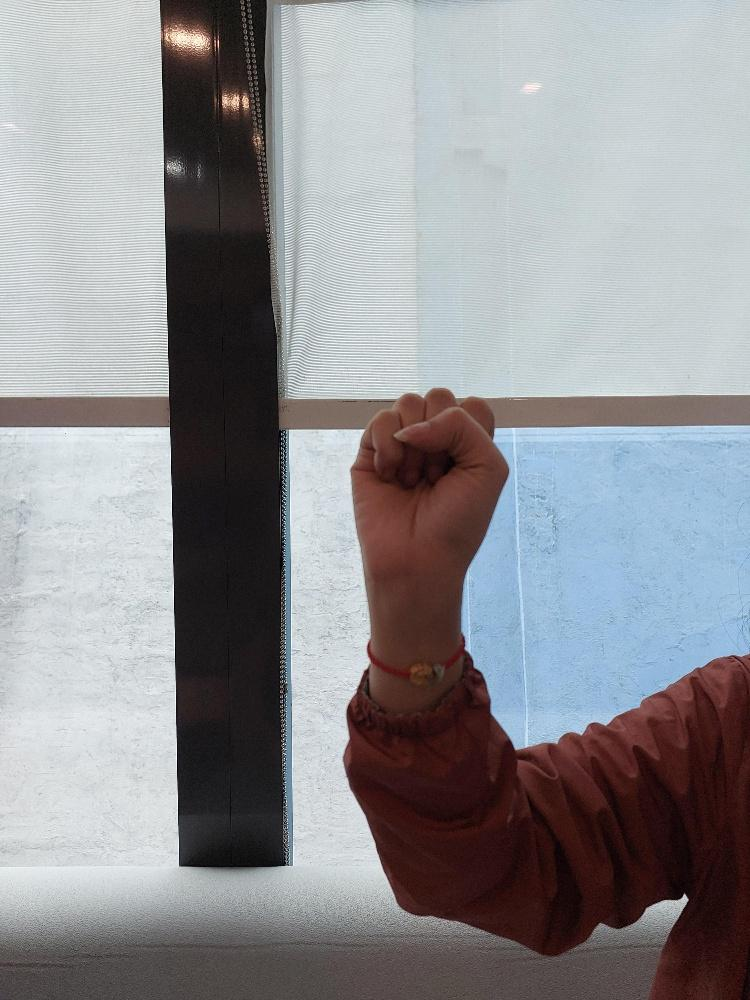s: (346, 381, 514, 594)
